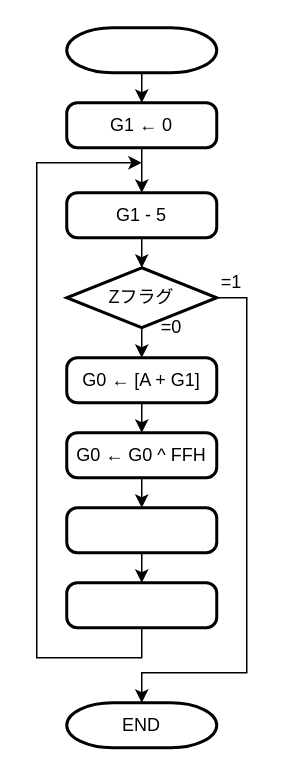
Image size: 288x774. Some labels were removed from this diagram. The shapes that lost their labels are listed below. From the top down, each one's centre as x and y in pixels, then its label:
At (x=141, y=50): "START".
At (x=141, y=530): "[A + G1] ← G0".
At (x=141, y=604): "G1 ← G1 + 1".
